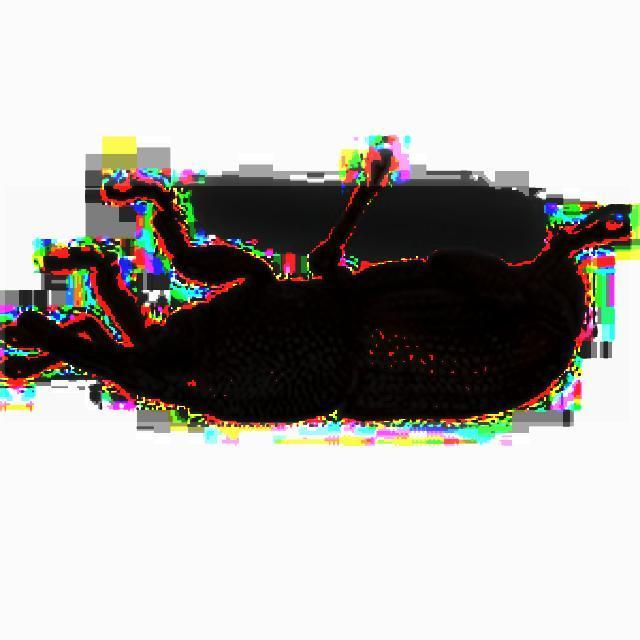rice-bug: (5, 186, 630, 422)
